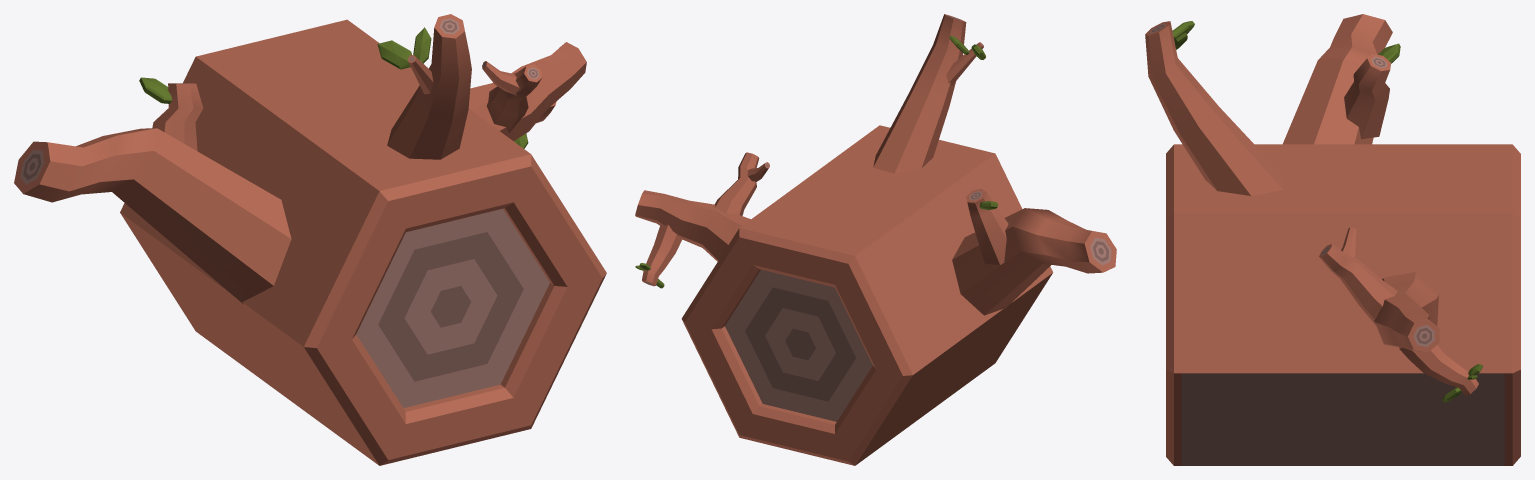
The model's file is Woody.fbx.
3 renders of one model, left to right at view 1: azimuth 30°, elevation 25°; view 2: azimuth 150°, elevation 25°; view 3: azimuth 270°, elevation 25°, orthographic. The views are drawn at different scales.
Visible parts, largest first — view 1: pCylinder18, pCylinder11, pCylinder24, pCylinder20, pCylinder19, pCylinder21, pSphere41, pCylinder22; view 2: pCylinder18, pCylinder11, pCylinder24, pCylinder20, pCylinder19, pCylinder21, pCylinder23, pCylinder38; view 3: pCylinder18, pCylinder24, pCylinder11, pCylinder20, pCylinder19, pCylinder21, pCylinder23.
Part boxes in pixels (x1=…): pCylinder18: x1=120, y1=19, x2=606, y2=465; pCylinder11: x1=14, y1=128, x2=291, y2=304; pCylinder24: x1=387, y1=14, x2=471, y2=159; pCylinder20: x1=468, y1=42, x2=586, y2=140; pCylinder19: x1=152, y1=83, x2=203, y2=151; pCylinder21: x1=486, y1=64, x2=542, y2=133; pSphere41: x1=377, y1=40, x2=411, y2=69; pCylinder22: x1=482, y1=61, x2=519, y2=95; pCylinder18: x1=681, y1=125, x2=1053, y2=465; pCylinder11: x1=952, y1=208, x2=1116, y2=315; pCylinder24: x1=873, y1=14, x2=966, y2=173; pCylinder20: x1=635, y1=190, x2=750, y2=261; pCylinder19: x1=966, y1=188, x2=1008, y2=264; pCylinder21: x1=714, y1=152, x2=759, y2=215; pCylinder23: x1=642, y1=224, x2=682, y2=286; pCylinder38: x1=946, y1=42, x2=983, y2=85; pCylinder18: x1=1166, y1=144, x2=1520, y2=465; pCylinder24: x1=1145, y1=21, x2=1284, y2=195; pCylinder11: x1=1283, y1=14, x2=1392, y2=144; pCylinder20: x1=1374, y1=272, x2=1439, y2=352; pCylinder19: x1=1344, y1=54, x2=1391, y2=139; pCylinder21: x1=1319, y1=244, x2=1397, y2=324; pCylinder23: x1=1399, y1=345, x2=1478, y2=395.
Size of the model in its own units: 3.91 by 2.76 by 2.33.
